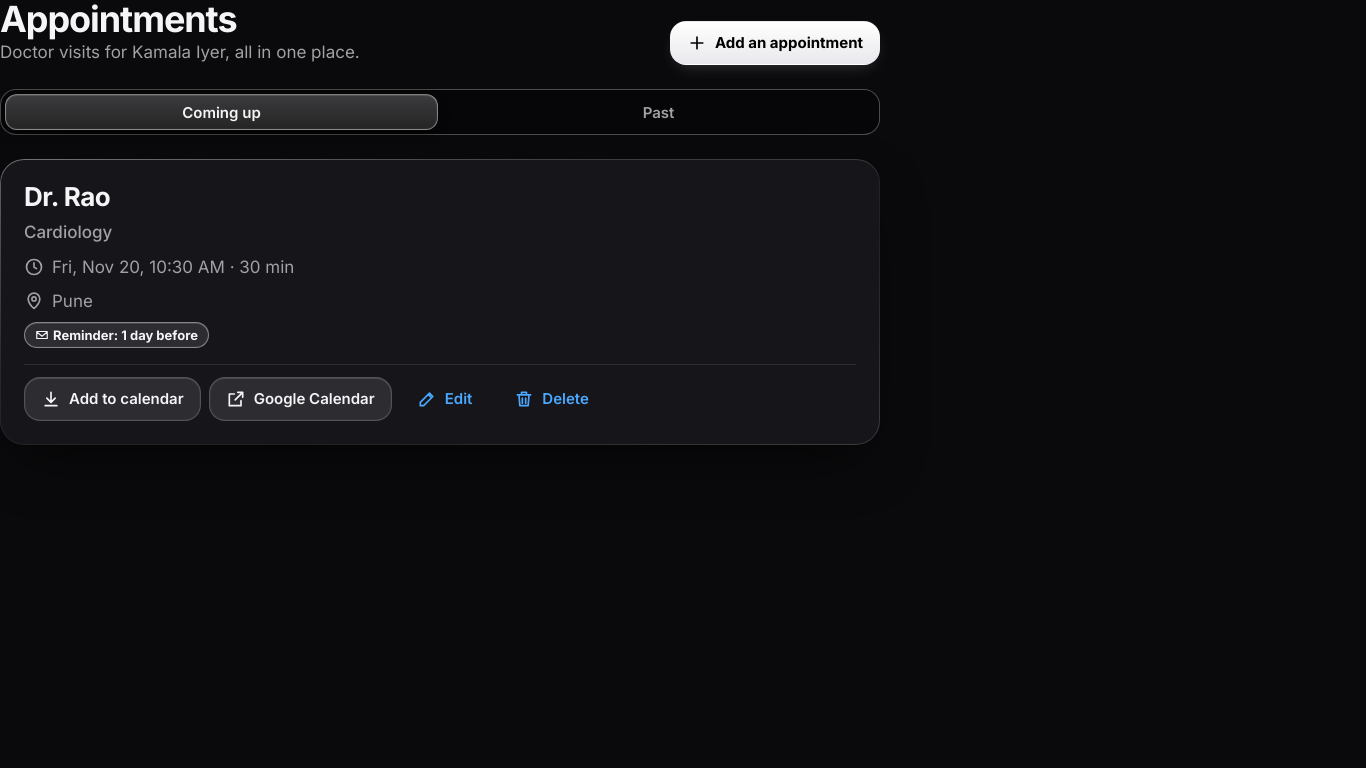
Scenario: Appointments › requires a doctor name
What coordinates should you click on to do the following:
click the button "Add an appointment"
I would click on:
 (775, 43)
Its box is [670, 21, 880, 65].
(page scrolled)
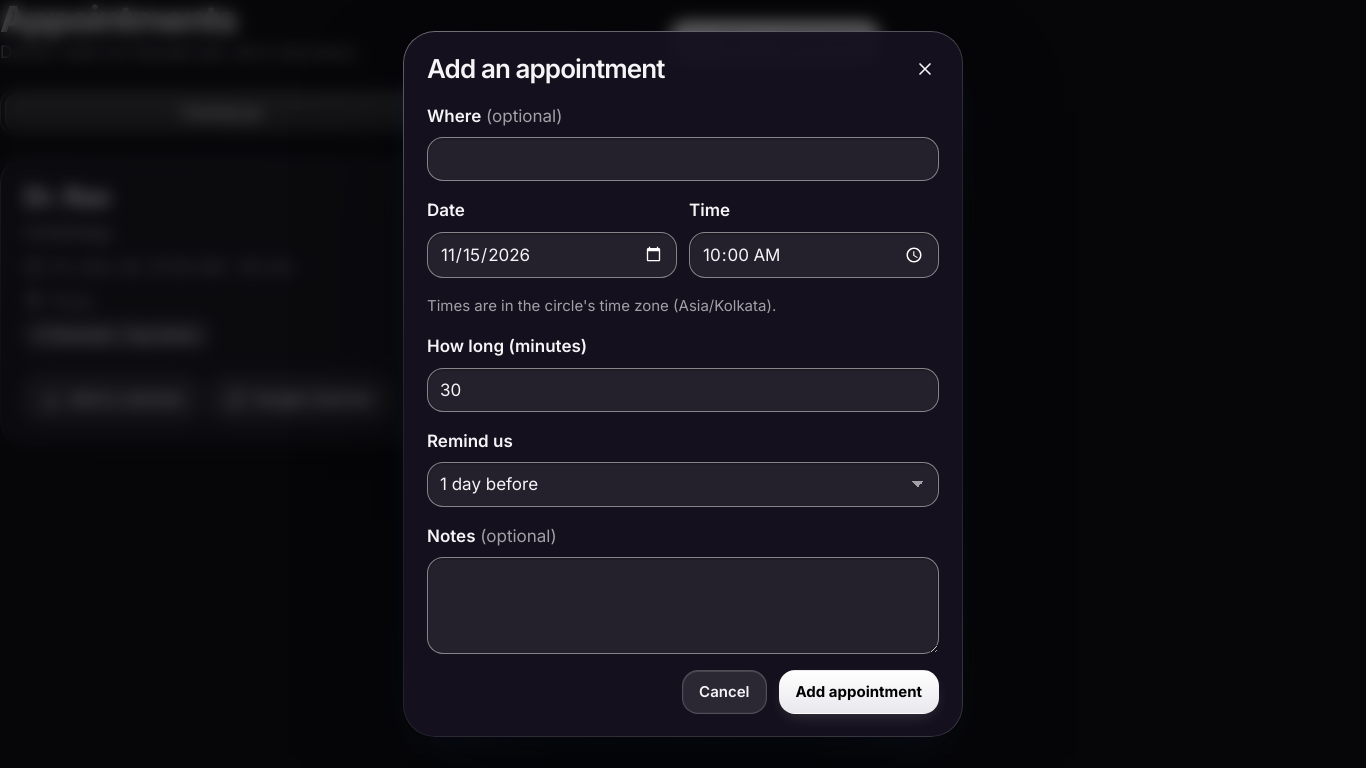
What coordinates should you click on to do the following:
click the button "Add appointment"
I would click on:
 (859, 692)
Its box is [778, 670, 939, 714].
(page scrolled)
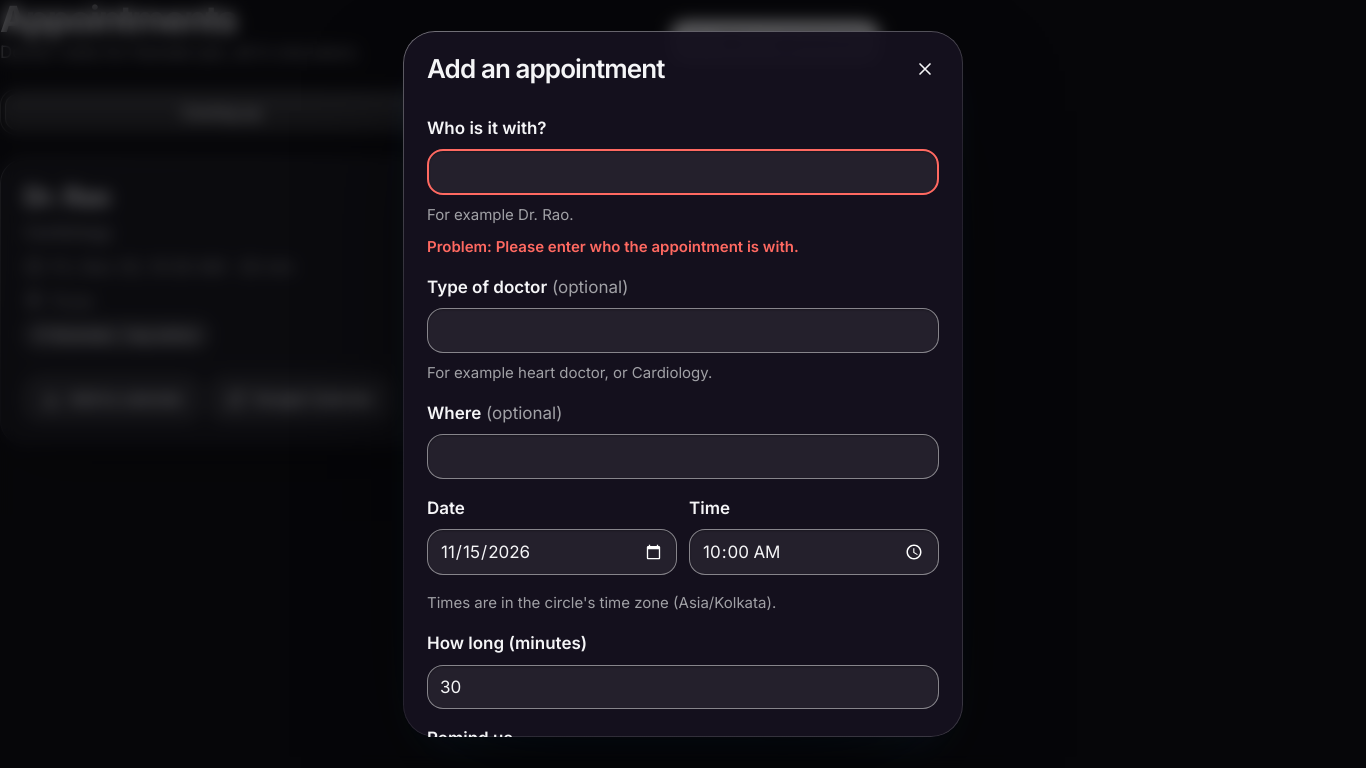
Result: the text "Please enter who the appointment is with." is shown at [496, 237, 799, 256]
